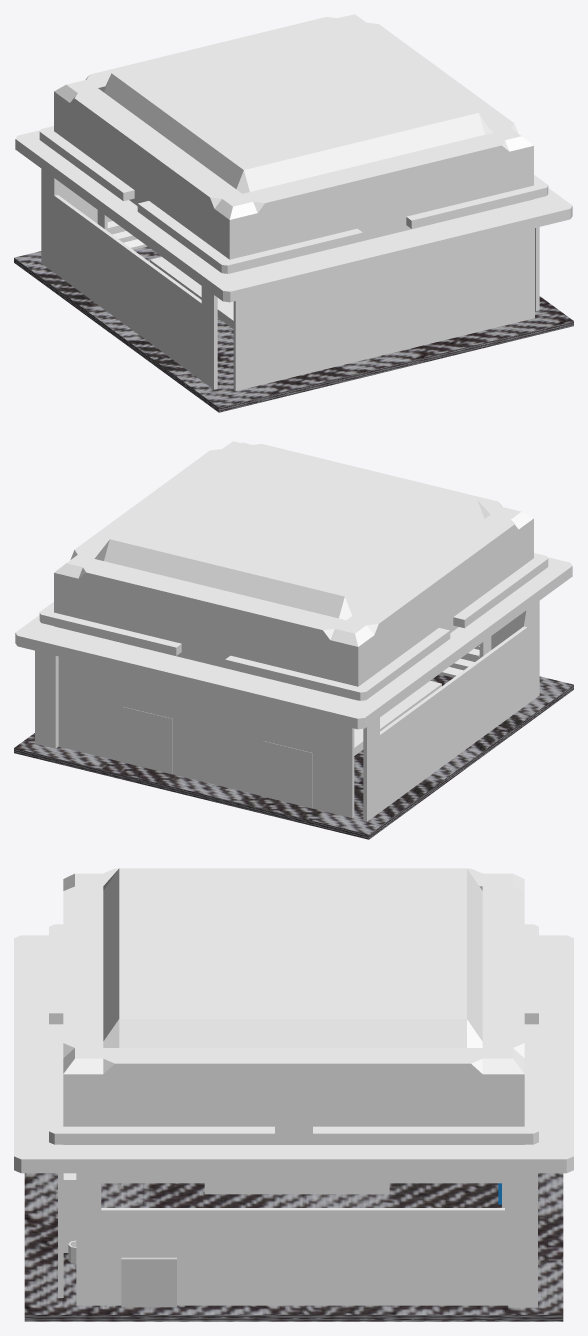
The model's file is Electronic Store.glb.
3 renders of one model, top to bottom at view 1: azimuth 30°, elevation 25°; view 2: azimuth 150°, elevation 25°; view 3: azimuth 270°, elevation 25°, orthographic. The views are drawn at different scales.
Visible parts, largest first — view 1: Cube.004, Cube.006, Cube.002, Cube.005, Cube, Cube.003, Cube.010, Cube.013; view 2: Cube.004, Cube.006, Cube.002, Cube.005, Cube, Cube.003, Cube.014, Cube.013, Cube.001, Cube.010, Cube.012; view 3: Cube.004, Cube.005, Cube.002, Cube, Cube.003, Cube.001, Plane, Cube.009, Cube.011, Cube.006.
Part boxes in pixels (box(x1,y1,x2,y2)): Cube.004: box(54, 14, 533, 273); Cube.006: box(58, 181, 534, 390); Cube.002: box(15, 130, 572, 302); Cube.005: box(41, 169, 539, 389); Cube: box(14, 246, 573, 412); Cube.003: box(39, 126, 548, 273); Cube.010: box(150, 257, 233, 328); Cube.013: box(97, 210, 147, 249); Cube.004: box(54, 441, 533, 700); Cube.006: box(58, 612, 523, 817); Cube.002: box(15, 557, 572, 729); Cube.005: box(363, 601, 539, 821); Cube: box(14, 674, 573, 839); Cube.003: box(39, 553, 548, 700); Cube.014: box(123, 707, 172, 774); Cube.013: box(263, 741, 312, 808); Cube.001: box(35, 650, 58, 748); Cube.010: box(354, 681, 441, 755); Cube.012: box(439, 636, 491, 677); Cube.004: box(63, 868, 524, 1144); Cube.005: box(76, 1173, 508, 1305); Cube.002: box(14, 935, 573, 1173); Cube: box(24, 1173, 563, 1321); Cube.003: box(49, 924, 538, 1144); Cube.001: box(508, 1173, 537, 1307); Plane: box(121, 1257, 176, 1307); Cube.009: box(204, 1183, 389, 1194); Cube.011: box(63, 1173, 76, 1252); Cube.006: box(58, 1173, 63, 1297).
Bounding box in the file's own units: 70 × 37.96 × 72.78.
Materials: 9 (2 with a texture image).
